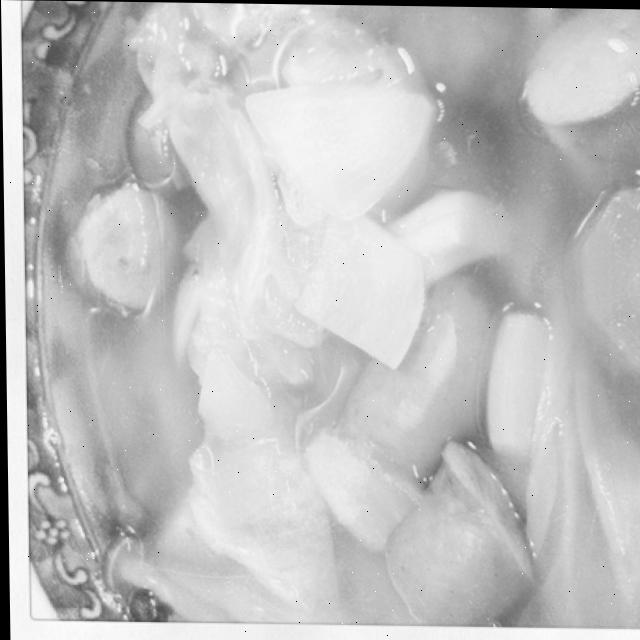汤锅炖物: (38, 0, 640, 617)
